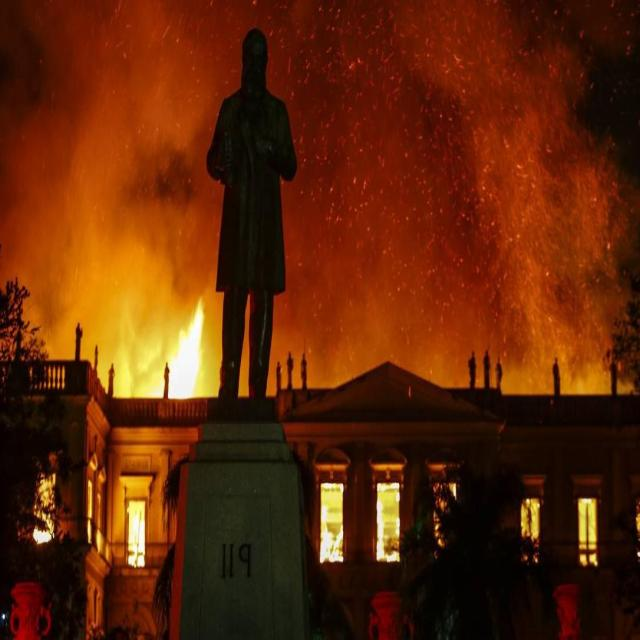fire: (279, 116, 633, 390), (25, 58, 219, 393)
